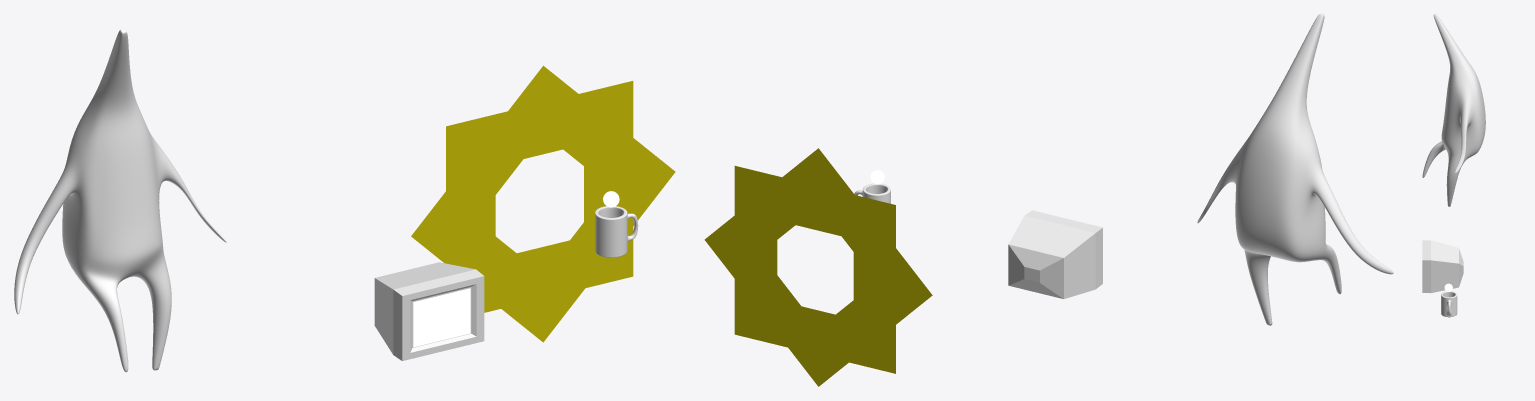
File: parts.e545aa65.glb
3 renders of one model, left to right at view 1: azimuth 30°, elevation 25°; view 2: azimuth 150°, elevation 25°; view 3: azimuth 270°, elevation 25°, orthographic. The views are drawn at different scales.
Parts seen in each view (by area): view 1: square, body, monitor, display, cup; view 2: square, body, monitor; view 3: body, monitor, cup.
Boxes of the visible parts, bbox=[...] form: square: bbox=[411, 65, 675, 342]; body: bbox=[14, 29, 226, 372]; monitor: bbox=[374, 262, 484, 360]; display: bbox=[413, 288, 470, 347]; cup: bbox=[595, 206, 638, 257]; square: bbox=[704, 148, 932, 386]; body: bbox=[1197, 14, 1393, 325]; monitor: bbox=[1008, 210, 1102, 298]; body: bbox=[1422, 14, 1485, 206]; monitor: bbox=[1422, 240, 1463, 292]; cup: bbox=[1441, 291, 1457, 317].
Bounding box in the file's own units: 50.69 × 32.91 × 11.83.
